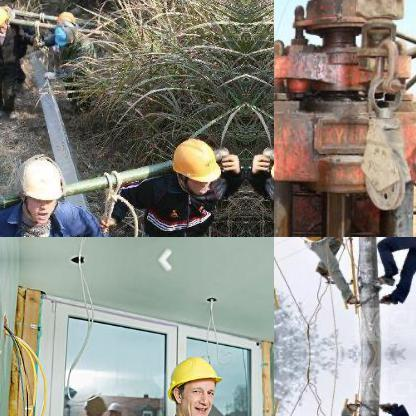Helmet: (164, 345, 223, 415), (11, 154, 63, 220), (166, 136, 221, 193), (48, 22, 76, 44), (53, 10, 75, 22), (0, 5, 7, 34)
